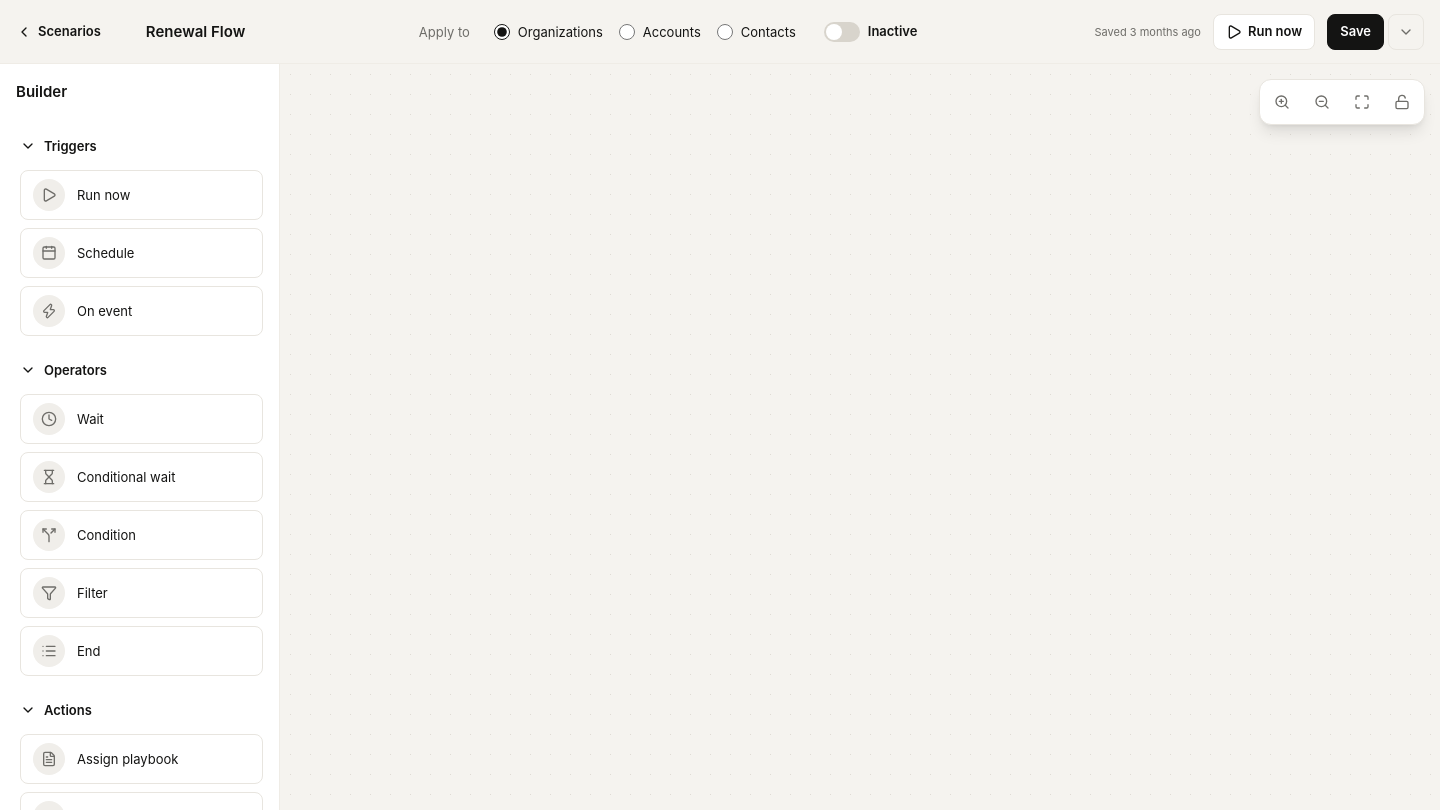
Test: CreateScenario builder › Run Now opens the modal and runs against a selected organization once saved
Expected: the field showing "Renewal Flow" is shown, [137, 14, 395, 50]
Click the button "Run now" at (1264, 32), box [1213, 14, 1315, 50]
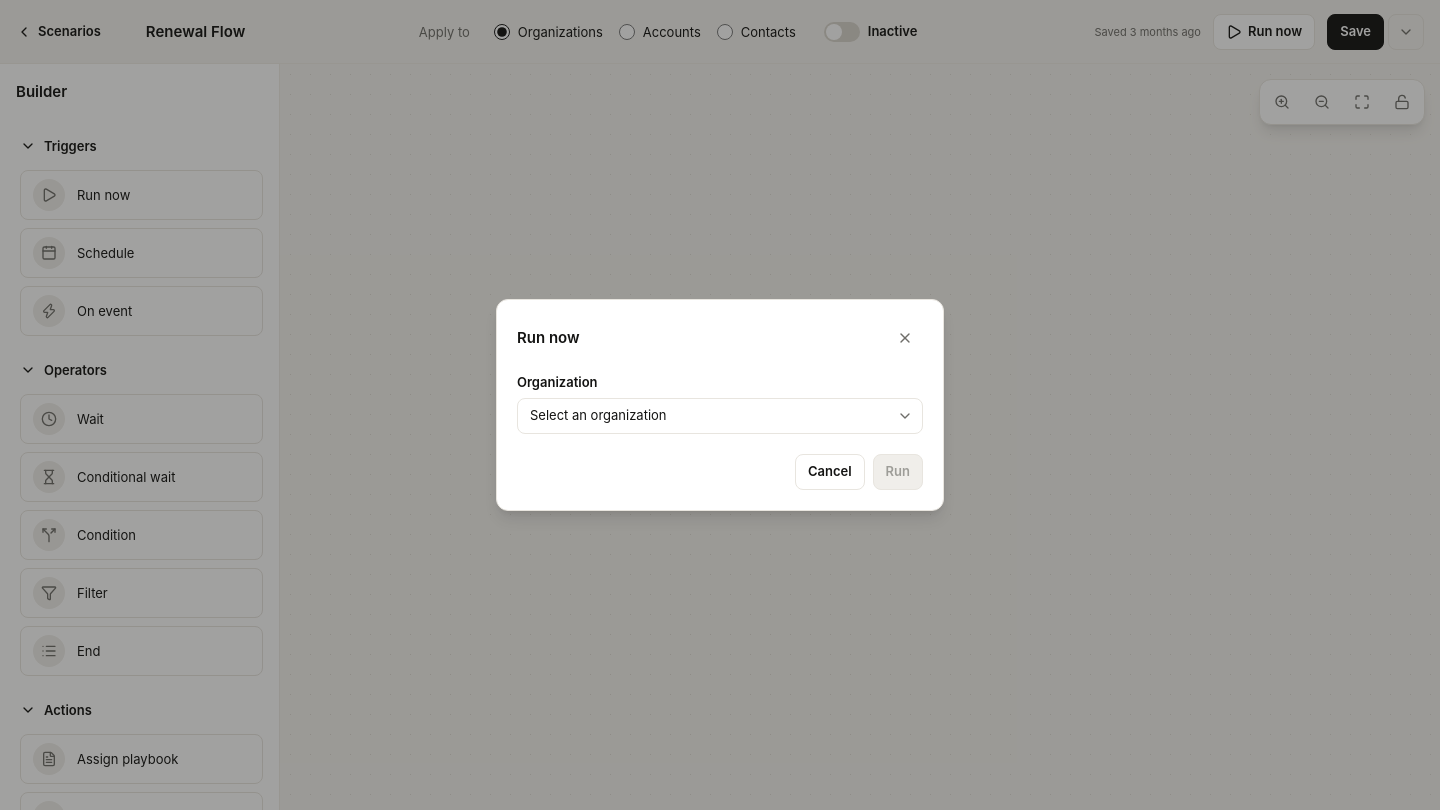
Select "Globex" in the dropdown labelled "Organization" at (720, 416), box [517, 398, 923, 434]
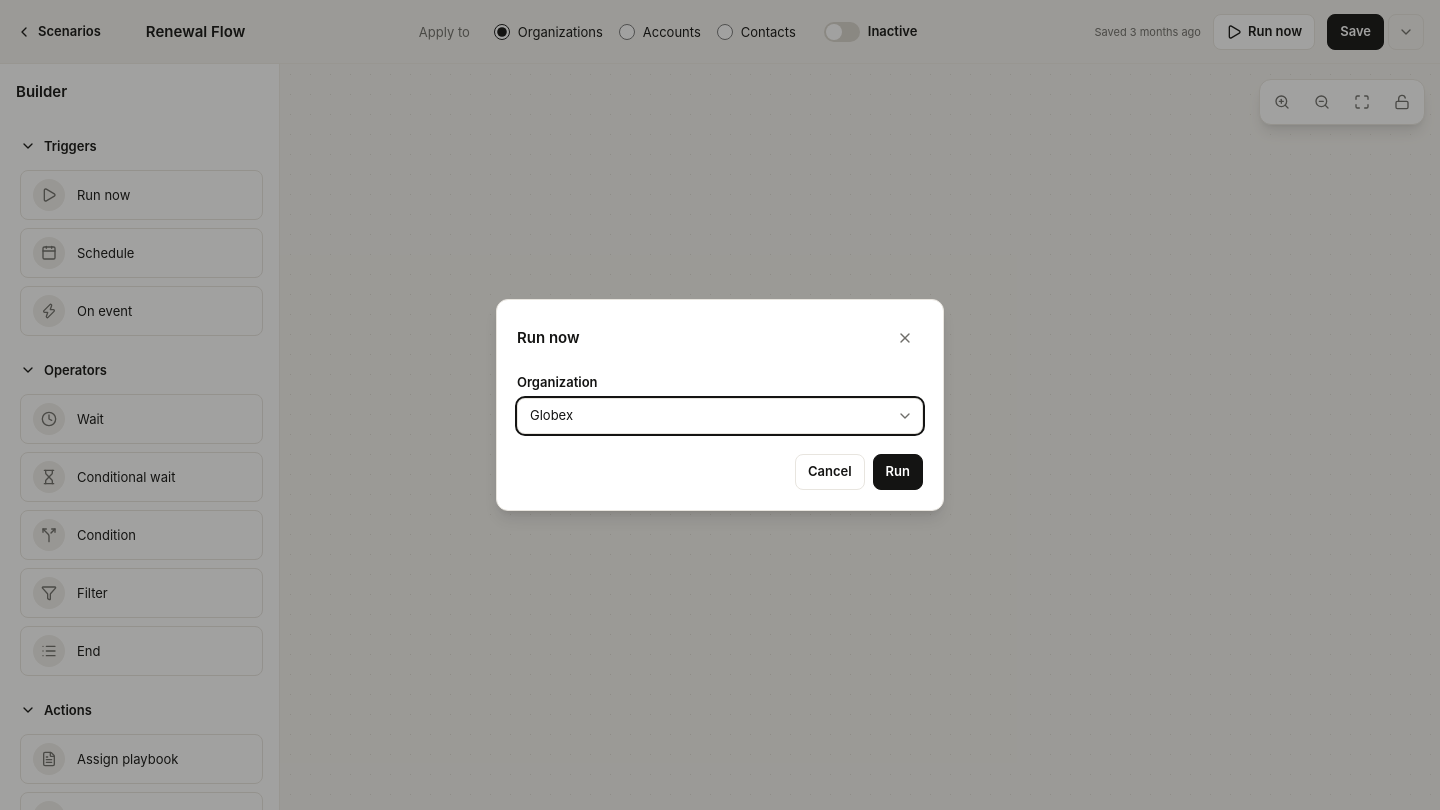
Click the button "Run" at (898, 472), box [873, 454, 923, 490]
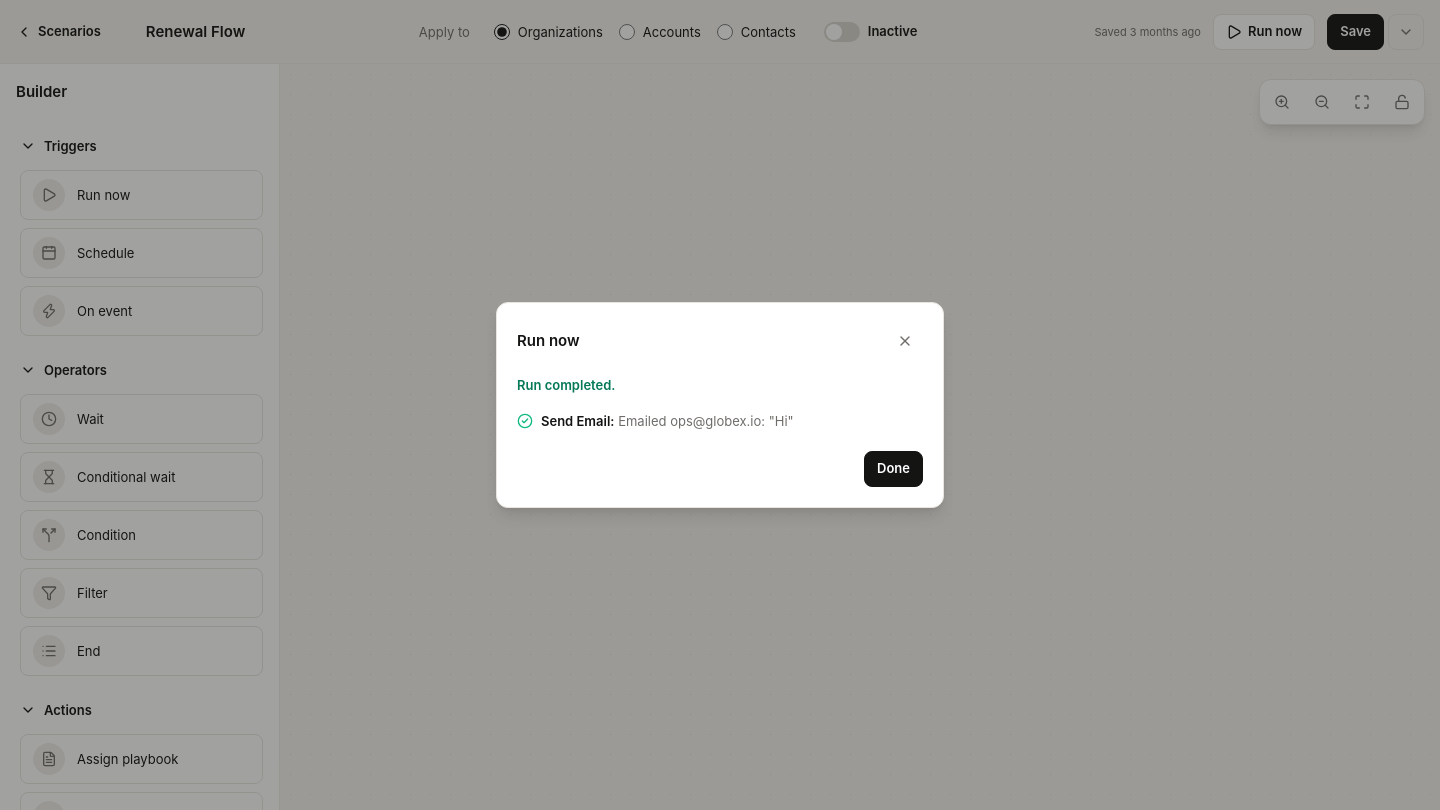
Expected: the text "Run completed." is shown, [517, 377, 616, 393]
Expected: the text "Send Email: Emailed ops@globex.io: \"Hi\"" is shown, [541, 411, 794, 431]
